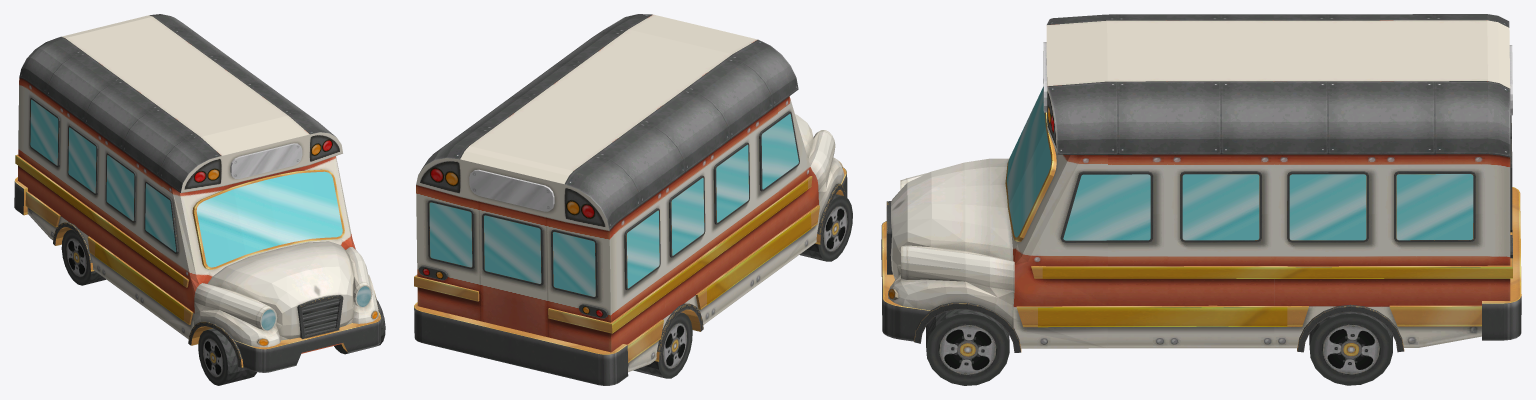
File: NewBus.fbx
The picture shows the model from 3 angles, left to right: view 1: azimuth 30°, elevation 25°; view 2: azimuth 150°, elevation 25°; view 3: azimuth 270°, elevation 25°; orthographic projection. The views are drawn at different scales.
Visible parts, largest first — view 1: DrawCall_62; view 2: DrawCall_62; view 3: DrawCall_62.
Part boxes in pixels (x1,y1,x2,y2): DrawCall_62: (14, 14, 385, 385); DrawCall_62: (414, 14, 852, 385); DrawCall_62: (881, 14, 1521, 385).
Size of the model in its own units: 107 by 120 by 246.
